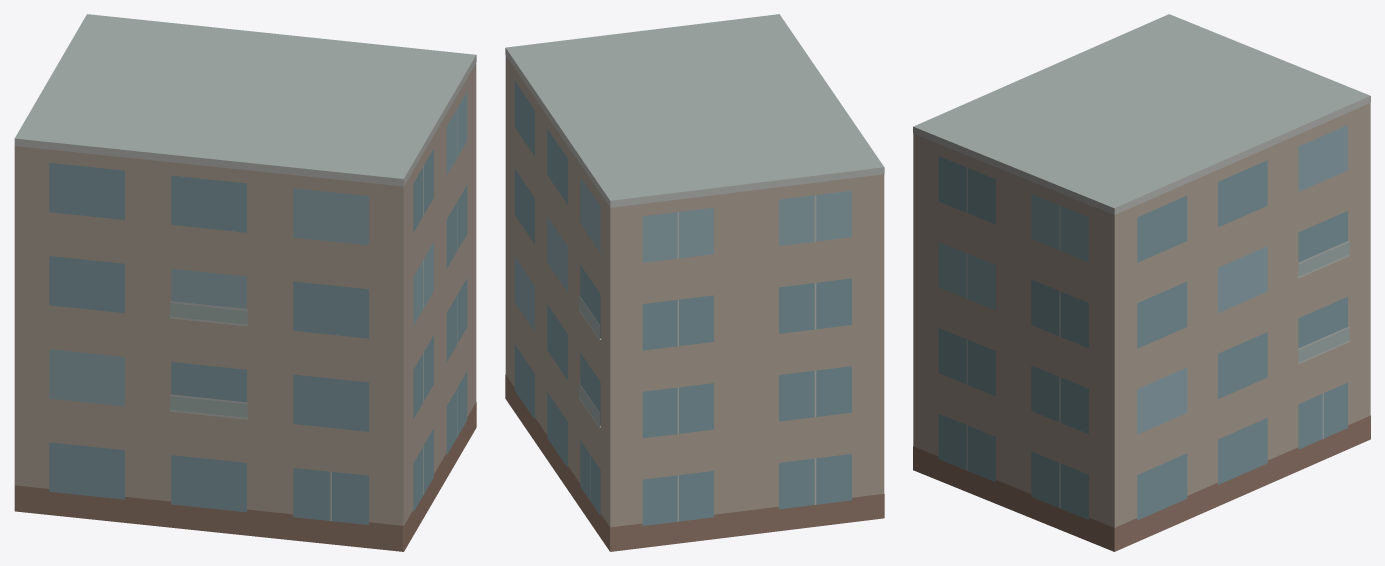
The model's file is residential-fdfc6a1e-985d-4a8f-96de-ccf9c37caec0.glb.
3 views of the same model, side by side, from view 1: azimuth 30°, elevation 25°; view 2: azimuth 150°, elevation 25°; view 3: azimuth 270°, elevation 25° (orthographic). The views are drawn at different scales.
Visible parts, largest first — view 1: residential-fdfc6a1e-985d-4a8f-96de-ccf9c37caec0.tmp; view 2: residential-fdfc6a1e-985d-4a8f-96de-ccf9c37caec0.tmp; view 3: residential-fdfc6a1e-985d-4a8f-96de-ccf9c37caec0.tmp.
Part boxes in pixels (x1,y1,x2,y2): residential-fdfc6a1e-985d-4a8f-96de-ccf9c37caec0.tmp: (14, 14, 476, 551); residential-fdfc6a1e-985d-4a8f-96de-ccf9c37caec0.tmp: (505, 14, 884, 551); residential-fdfc6a1e-985d-4a8f-96de-ccf9c37caec0.tmp: (913, 14, 1370, 551).
Bounding box in the file's own units: 14.81 × 12.2 × 14.74.
